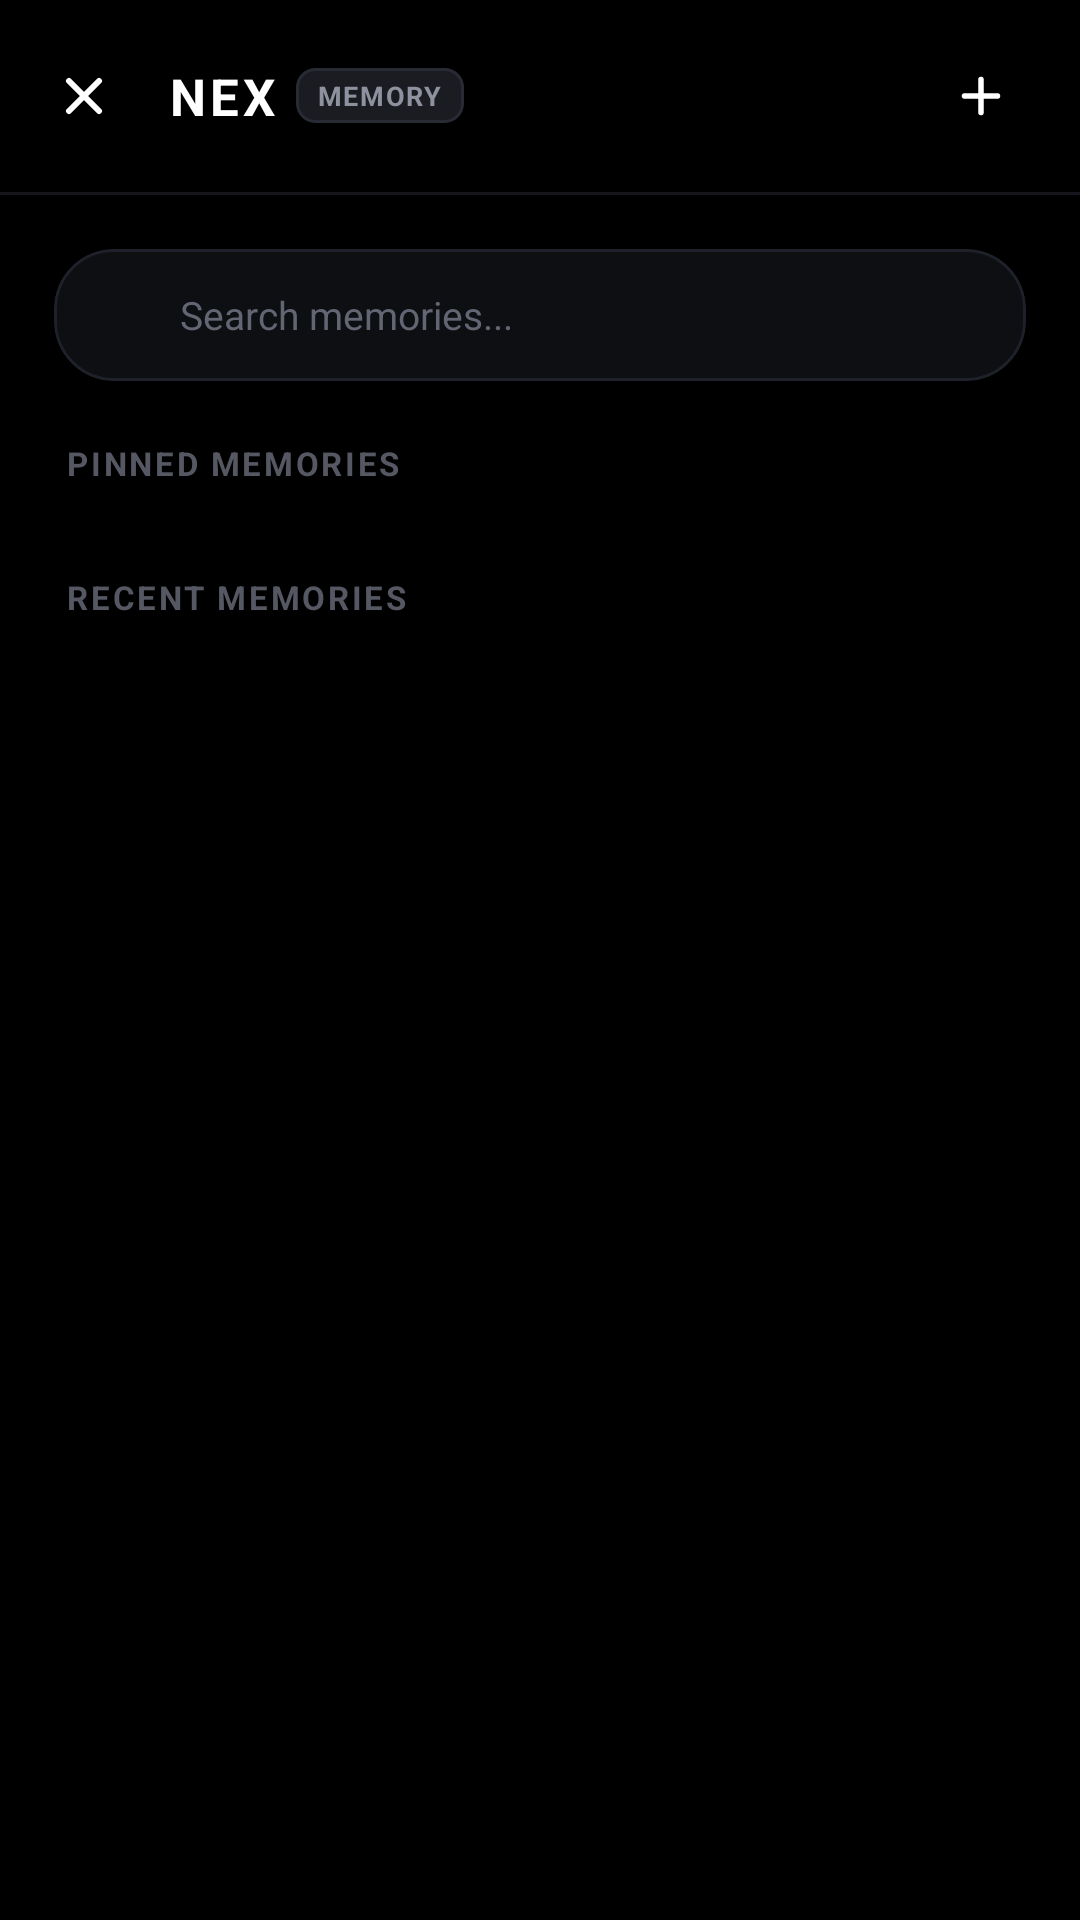

Locate icon controls on the screen. Image size 1080*1920, boxes as (x1, y1, x2, y2).
Add Memory: (961, 76, 1001, 116)
